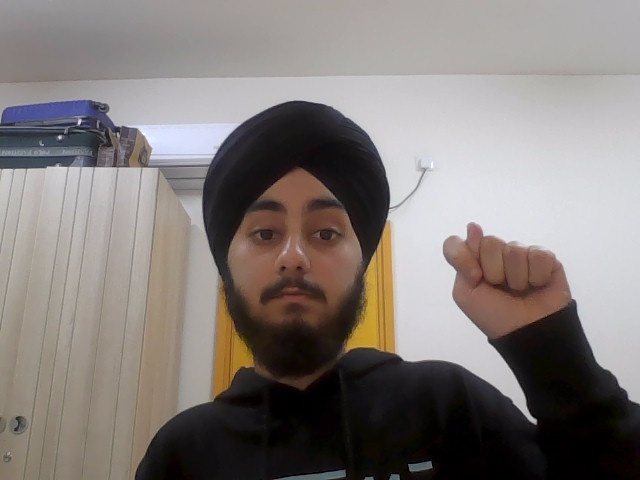Bathroom: (441, 218, 582, 336)
